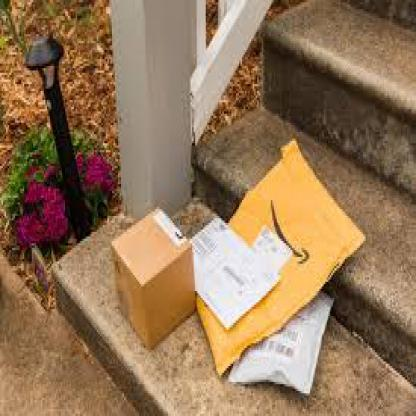package: (111, 204, 201, 357)
